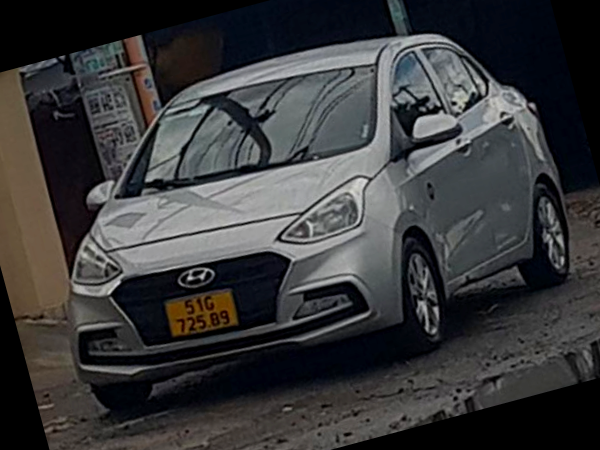lisence: (165, 289, 238, 336)
